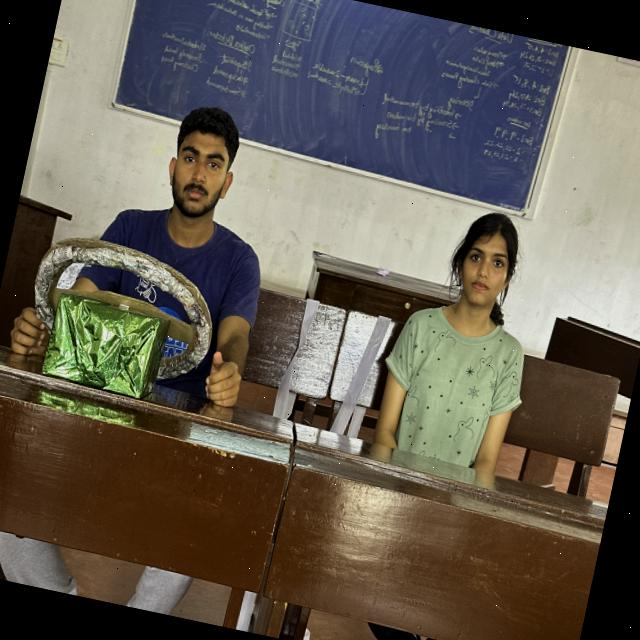no-seatbelt: (16, 193, 272, 411), (343, 286, 562, 506)
